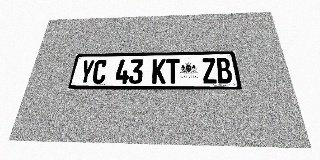3: (128, 59, 143, 84)
4: (115, 59, 130, 84)
B: (215, 58, 233, 84)
C: (91, 60, 108, 84)
K: (152, 59, 166, 84)
T: (166, 59, 180, 84)
Y: (78, 60, 95, 84)
Z: (201, 58, 218, 84)
